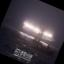fishing boat: (17, 14, 60, 47)
